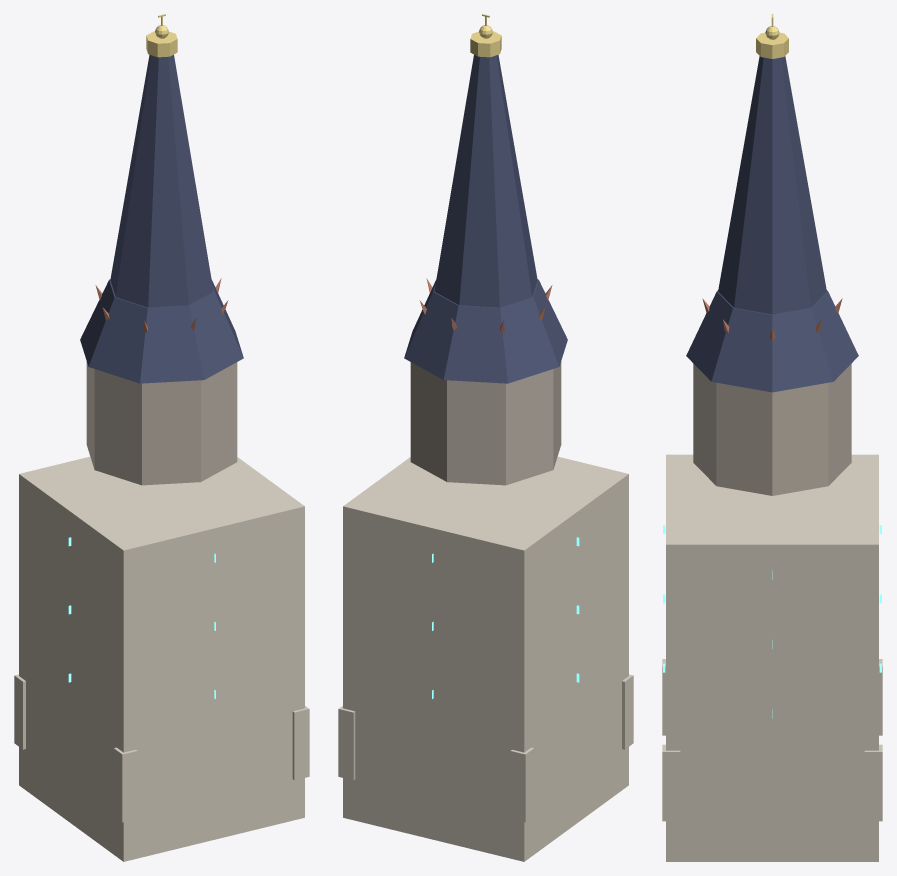
Rendered from church_spire_v13.glb.
3 renders of one model, left to right at view 1: azimuth 30°, elevation 25°; view 2: azimuth 150°, elevation 25°; view 3: azimuth 270°, elevation 25°, orthographic.
Parts seen in each view (by area): view 1: Cube, Cone.001, Cylinder, Cone, Cube.001, Cube.002, Cube.003, Cylinder.001; view 2: Cube, Cone.001, Cylinder, Cone, Cube.003, Cube.004, Cube.001, Cylinder.001; view 3: Cube, Cone.001, Cylinder, Cone, Cube.002, Cube.004, Cylinder.001.
Boxes of the visible parts, box(x1,y1,x2,y2) form: Cube: box(19, 456, 304, 861); Cone.001: box(110, 54, 213, 307); Cylinder: box(86, 362, 237, 485); Cone: box(80, 279, 243, 383); Cube.001: box(113, 747, 137, 822); Cube.002: box(292, 706, 309, 780); Cube.003: box(14, 674, 25, 749); Cylinder.001: box(146, 31, 177, 57); Cube: box(343, 456, 628, 861); Cone.001: box(434, 54, 537, 307); Cylinder: box(410, 362, 561, 485); Cone: box(404, 279, 567, 383); Cube.003: box(510, 747, 534, 822); Cube.004: box(338, 706, 355, 780); Cube.001: box(622, 674, 633, 749); Cylinder.001: box(470, 31, 501, 57); Cube: box(666, 454, 878, 861); Cone.001: box(718, 56, 826, 314); Cylinder: box(693, 364, 851, 495); Cone: box(686, 290, 858, 392); Cube.002: box(662, 744, 680, 821); Cube.004: box(864, 744, 882, 821); Cylinder.001: box(756, 32, 788, 58).
Size of what is drawn, in the model's own units: 4.02 by 16.16 by 4.02.
